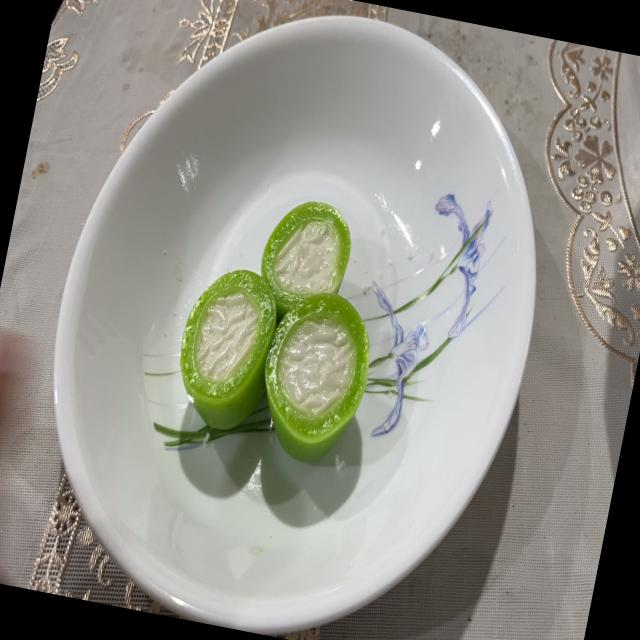nona-manis: (265, 293, 370, 463), (180, 269, 277, 431), (261, 201, 351, 319)
